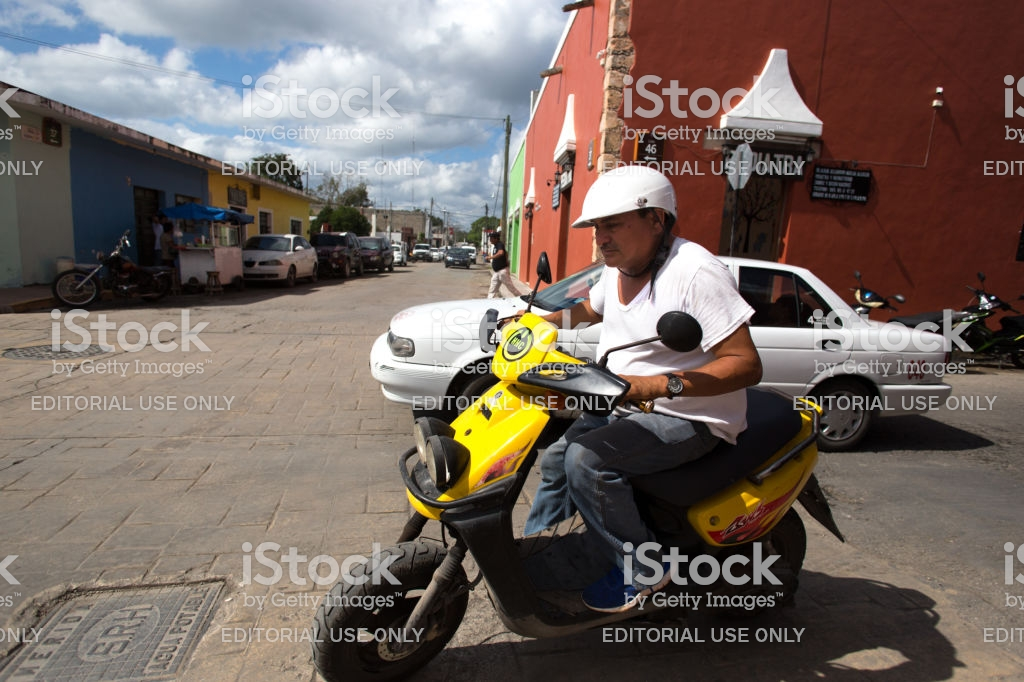helmet: (575, 161, 684, 220)
